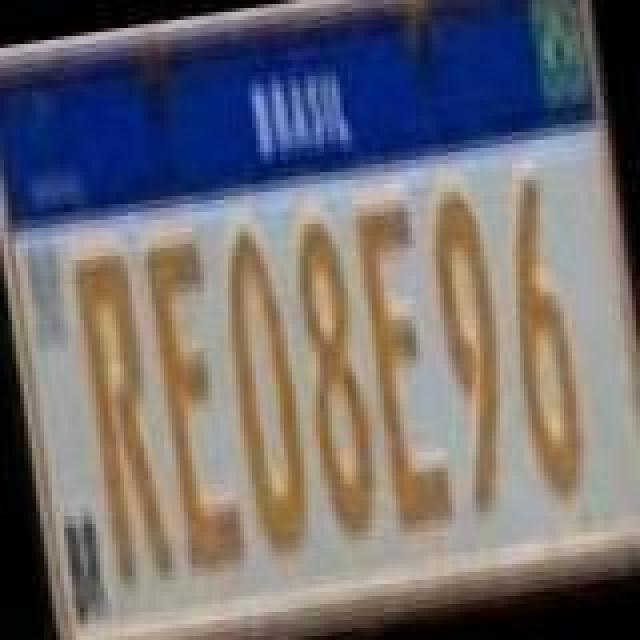6: (486, 164, 602, 516)
8: (278, 208, 394, 544)
9: (414, 170, 530, 518)
D: (204, 216, 324, 568)
E: (134, 226, 250, 574), (346, 188, 462, 532)
R: (62, 240, 178, 592)
